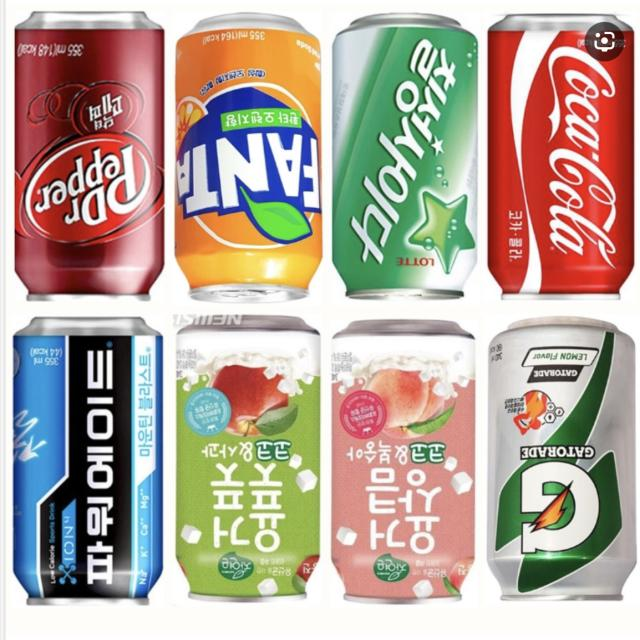can: (160, 305, 330, 618), (324, 9, 496, 313), (319, 311, 487, 616), (166, 8, 332, 312), (4, 0, 170, 300), (9, 310, 165, 620), (486, 320, 638, 616)
